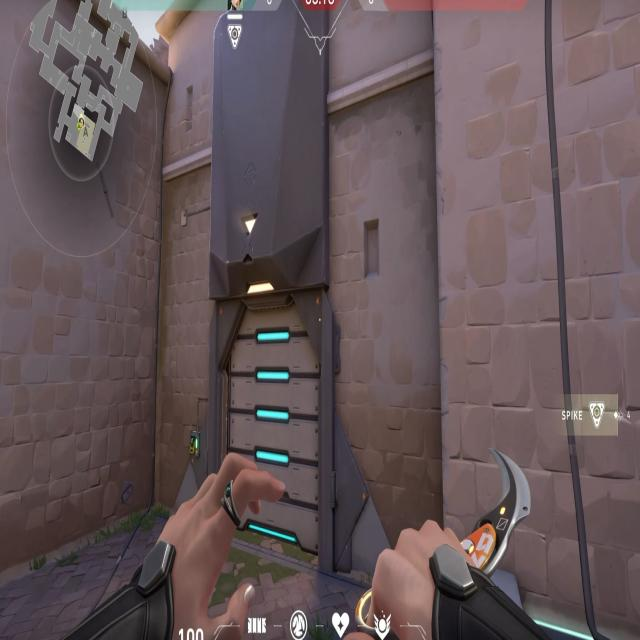A_Door: (200, 276, 334, 568)
